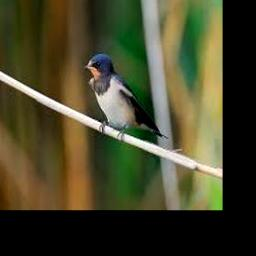Swallow: (81, 54, 168, 141)
